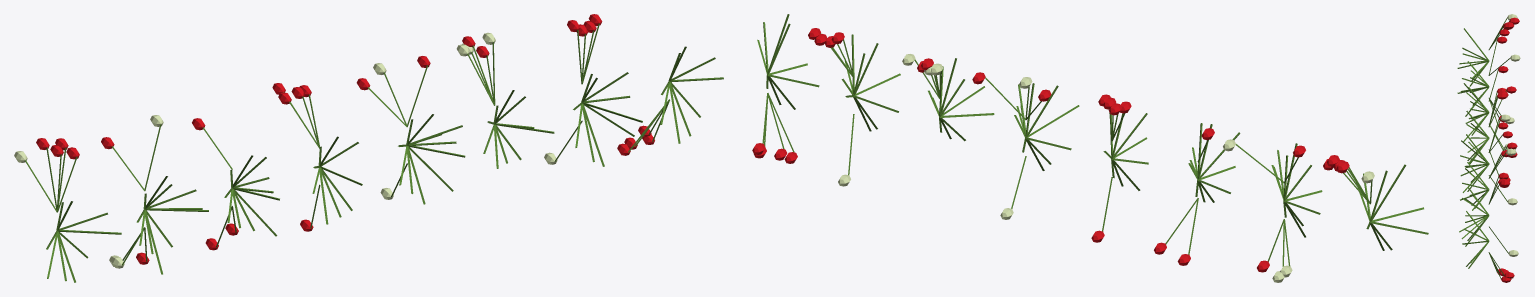
Rendered from r3c0_rest.obj.
3 renders of one model, left to right at view 1: azimuth 30°, elevation 25°; view 2: azimuth 150°, elevation 25°; view 3: azimuth 270°, elevation 25°, orthographic. The views are drawn at different scales.
Parts seen in each view (by area): view 1: r3c0_rest; view 2: r3c0_rest; view 3: r3c0_rest.
Boxes of the visible parts, <box> form: r3c0_rest: <box>14,14,723,282</box>; r3c0_rest: <box>752,14,1428,282</box>; r3c0_rest: <box>1457,14,1520,282</box>.
Bounding box in the file's own units: 1.94 × 0.4046 × 0.2599.
